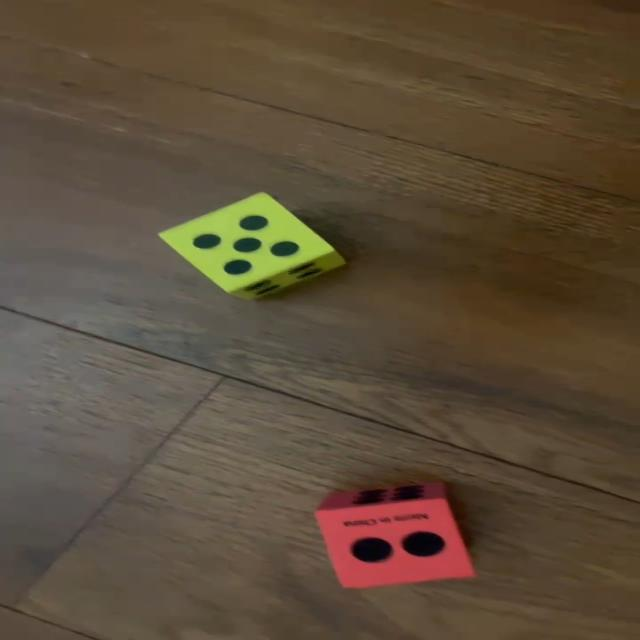red_block: (314, 481, 476, 589)
